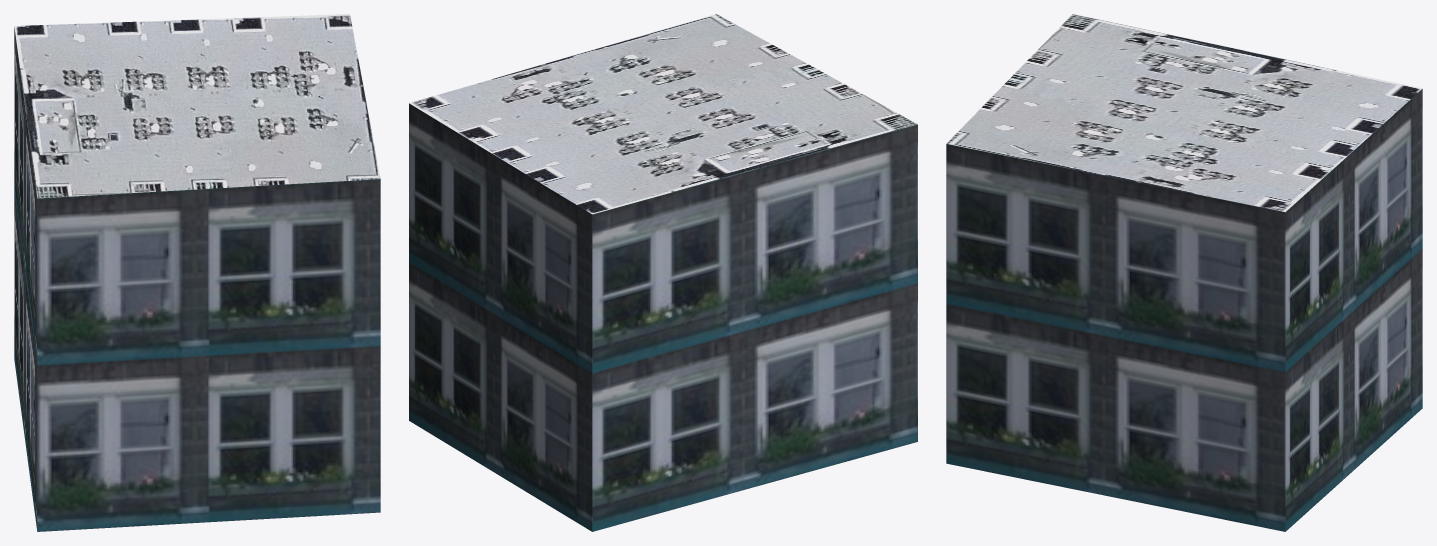
Rendered from ResTex__5039.fbx.
The picture shows the model from 3 angles, left to right: view 1: azimuth 30°, elevation 25°; view 2: azimuth 150°, elevation 25°; view 3: azimuth 270°, elevation 25°; orthographic projection. The views are drawn at different scales.
Visible parts, largest first — view 1: CityEngineMaterial_11_m, CityEngineMaterial_m; view 2: CityEngineMaterial_11_m, CityEngineMaterial_m; view 3: CityEngineMaterial_11_m, CityEngineMaterial_m.
Boxes of the visible parts, x1,y1,x2,y2 form: CityEngineMaterial_11_m: [14, 27, 380, 531]; CityEngineMaterial_m: [14, 14, 380, 198]; CityEngineMaterial_11_m: [409, 103, 917, 531]; CityEngineMaterial_m: [409, 14, 917, 214]; CityEngineMaterial_11_m: [946, 89, 1422, 531]; CityEngineMaterial_m: [946, 14, 1421, 212].
Bounding box in the file's own units: 7.98 × 6 × 8.1.
2 materials, 2 textured.
